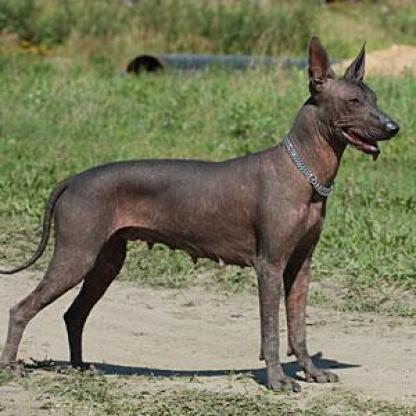Mexican_hairless: (0, 35, 399, 391)
